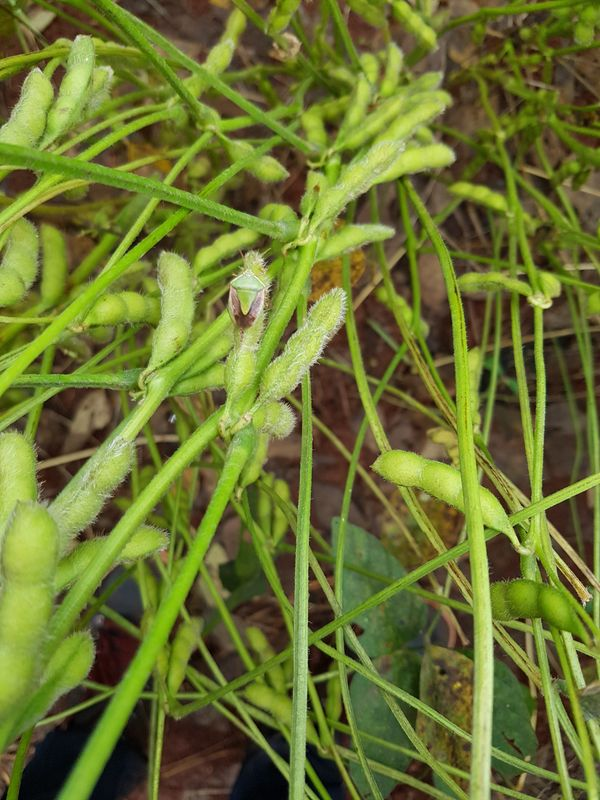Edessa_meditabunda: (215, 247, 287, 337)
